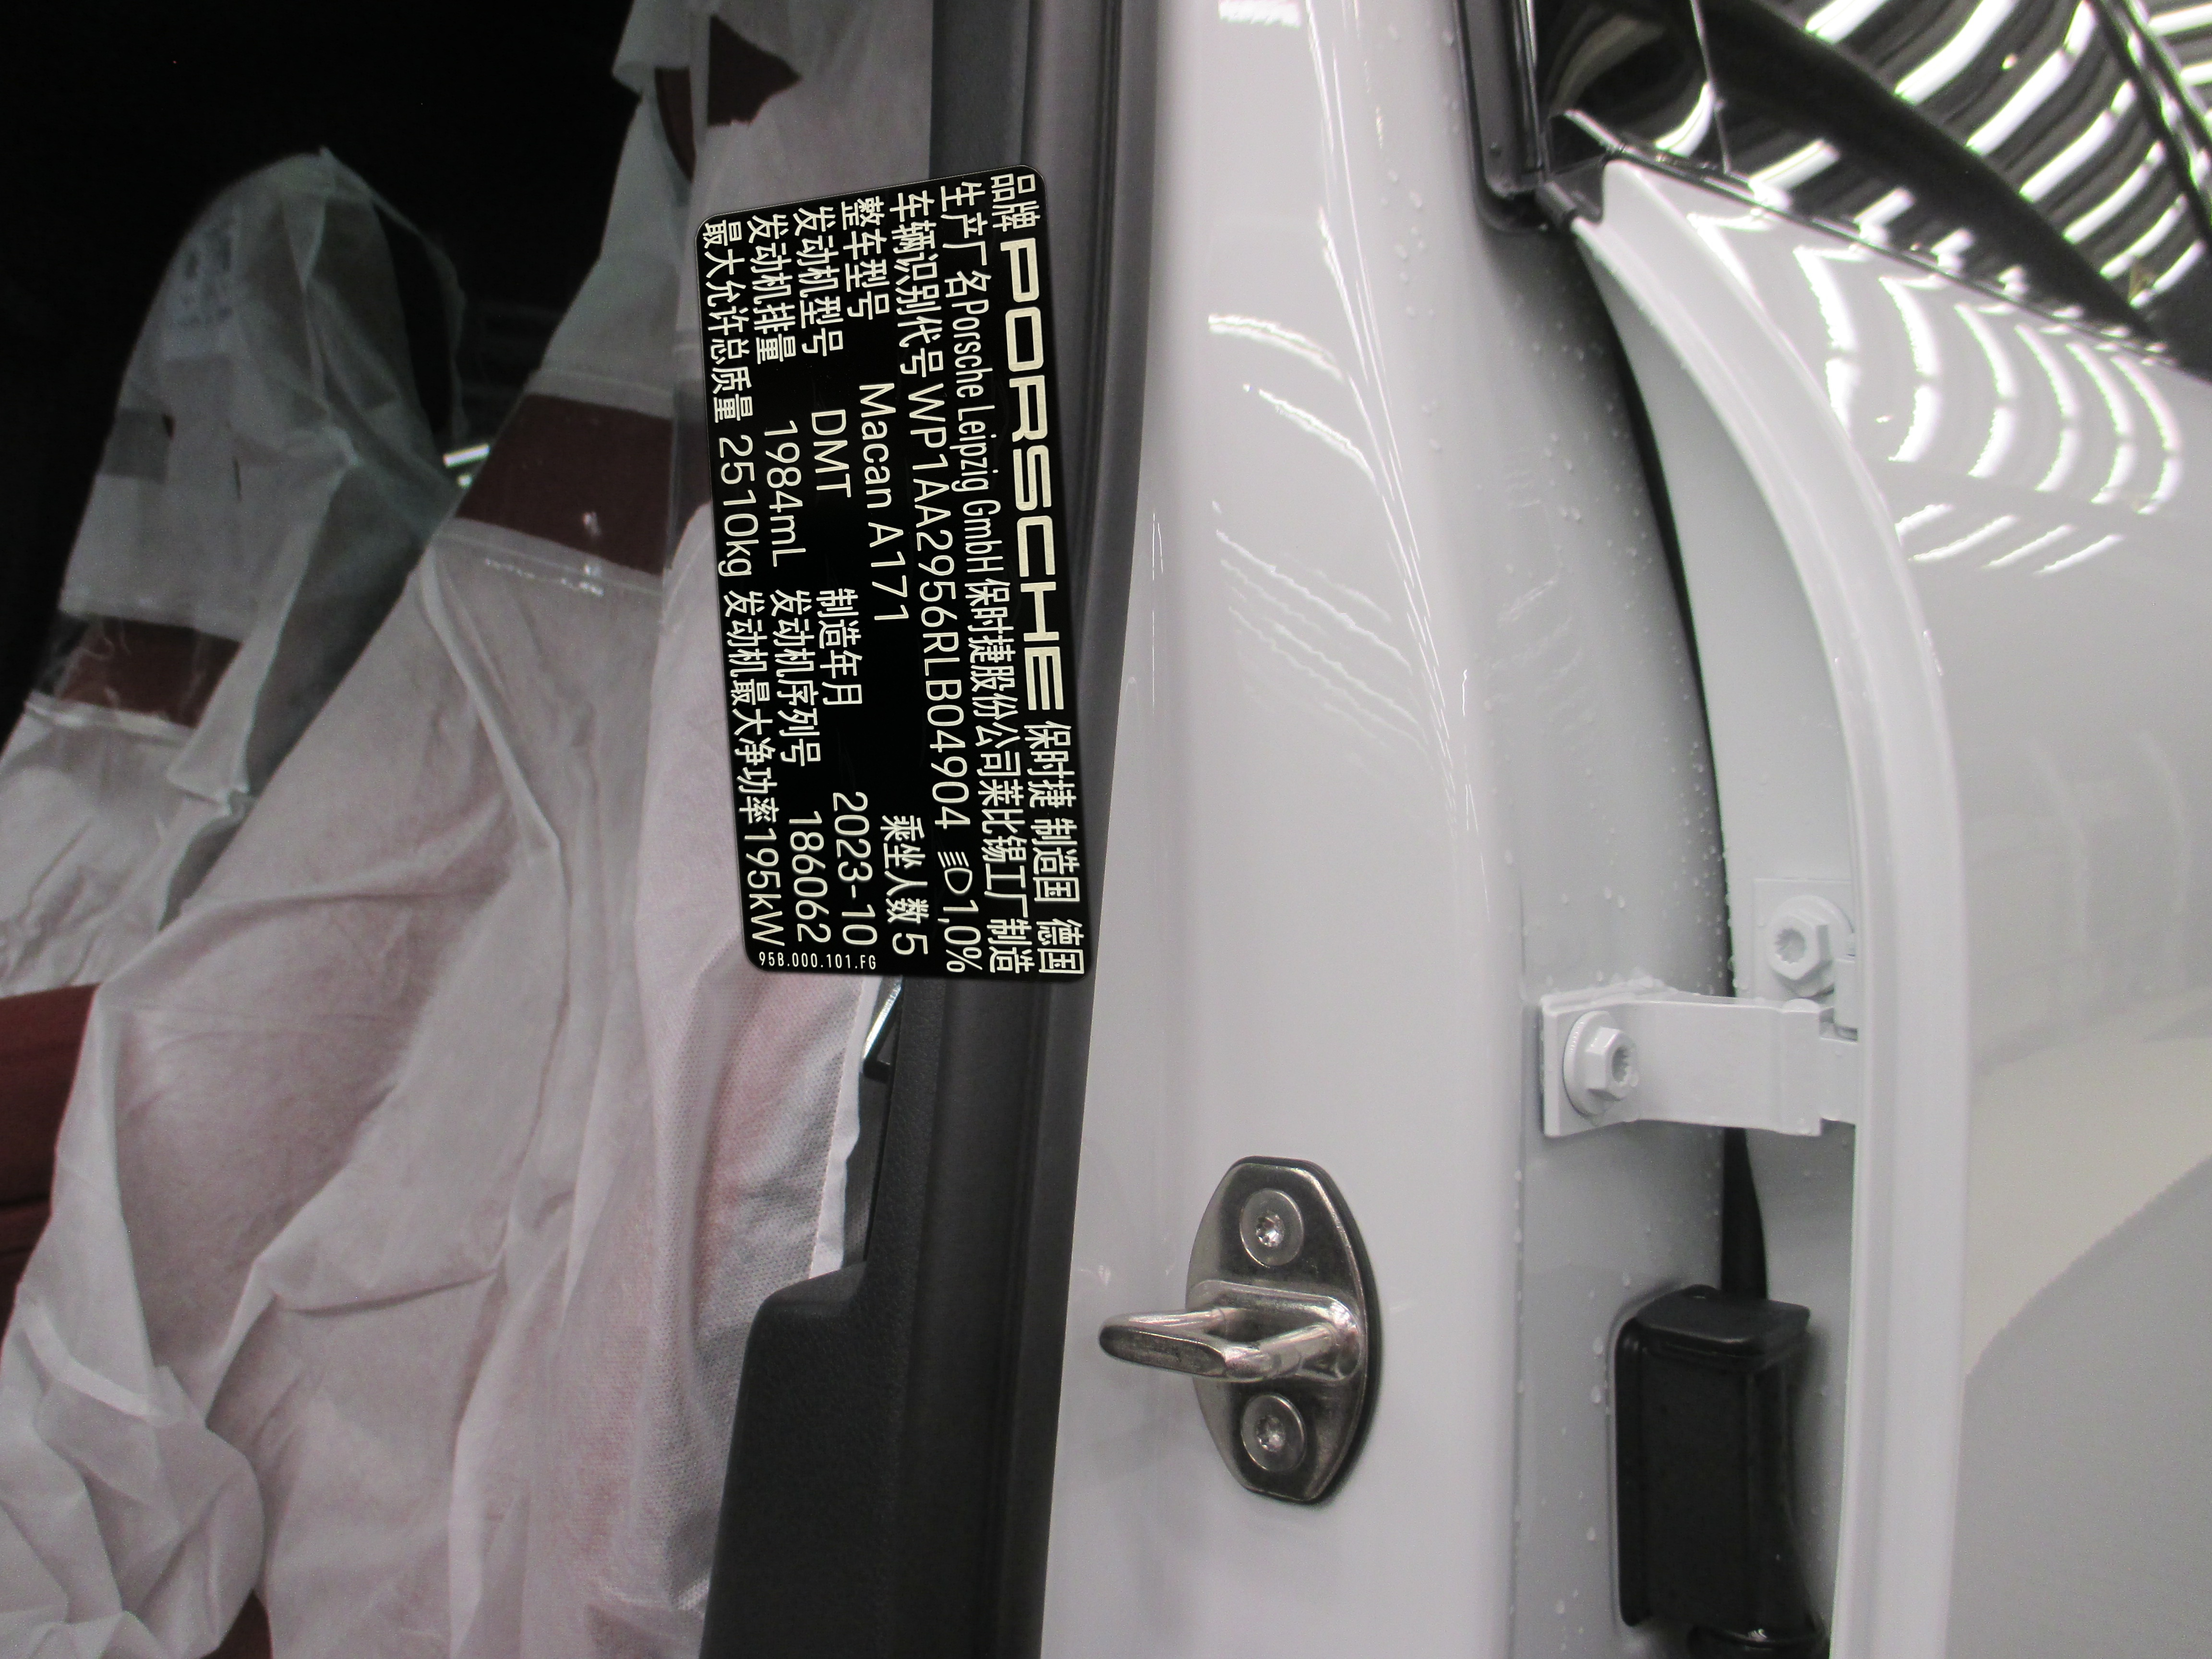Typlabel-China: (695, 166, 1092, 983)
